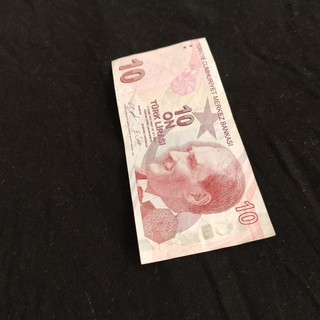10TLFront: (109, 35, 277, 265)
